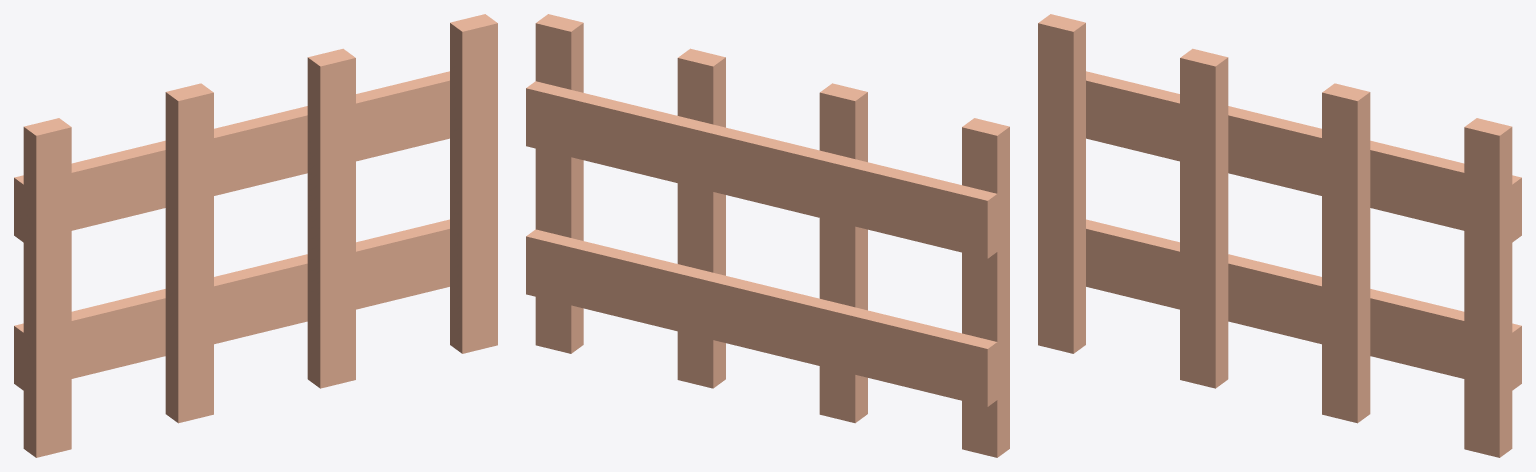
Rendered from timber-wall.glb.
3 renders of one model, left to right at view 1: azimuth 30°, elevation 25°; view 2: azimuth 150°, elevation 25°; view 3: azimuth 330°, elevation 25°, orthographic.
Parts seen in each view (by area): view 1: part-0; view 2: part-0; view 3: part-0.
Part boxes in pixels (x1=…): part-0: x1=14, y1=14, x2=497, y2=457; part-0: x1=526, y1=14, x2=1009, y2=457; part-0: x1=1038, y1=14, x2=1521, y2=457.
Size of the model in its own units: 3 by 2 by 0.25.
